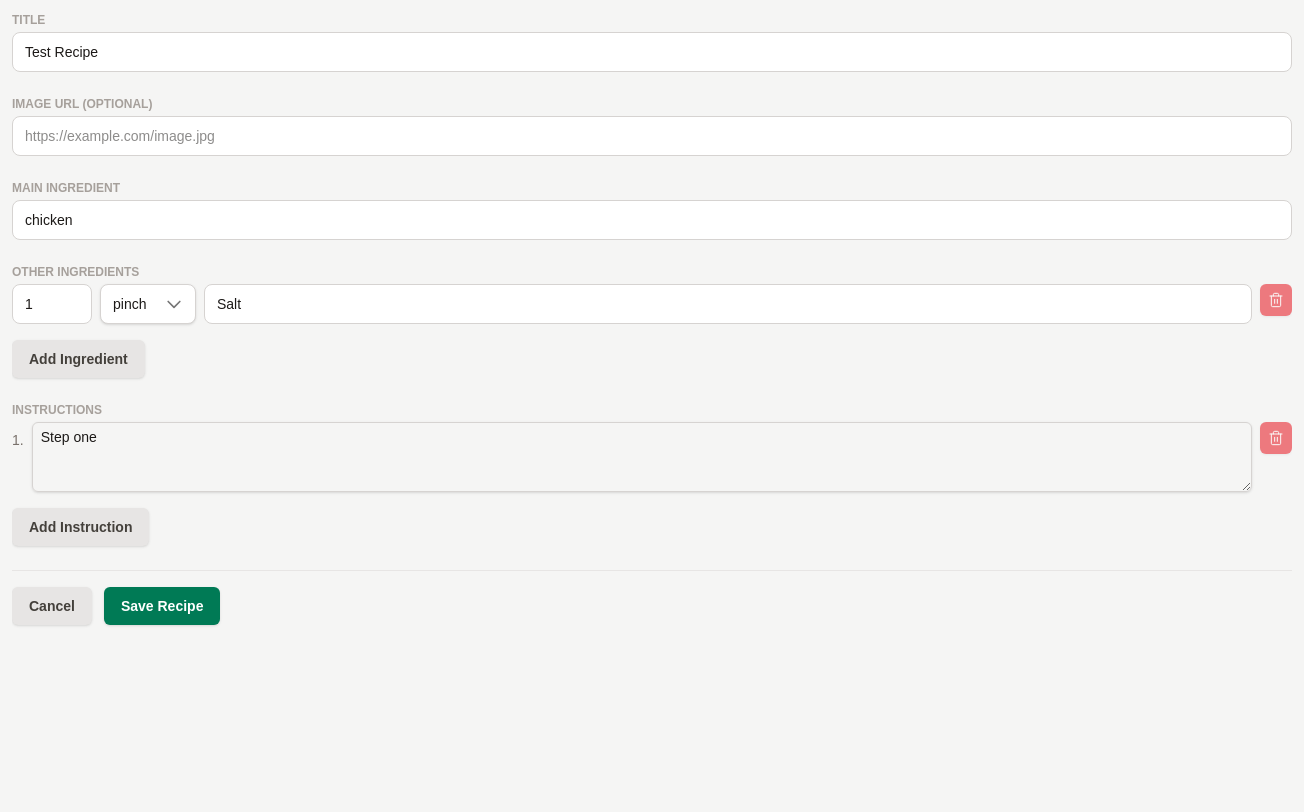
Test: RecipeForm › adds a new instruction step when Add Instruction is clicked
Expected: the number of text boxes with placeholder "Step 1" is 1, [32,422,1252,492]
Step 1. Click the button "Add Instruction" → (81, 527), box [12,508,149,546]
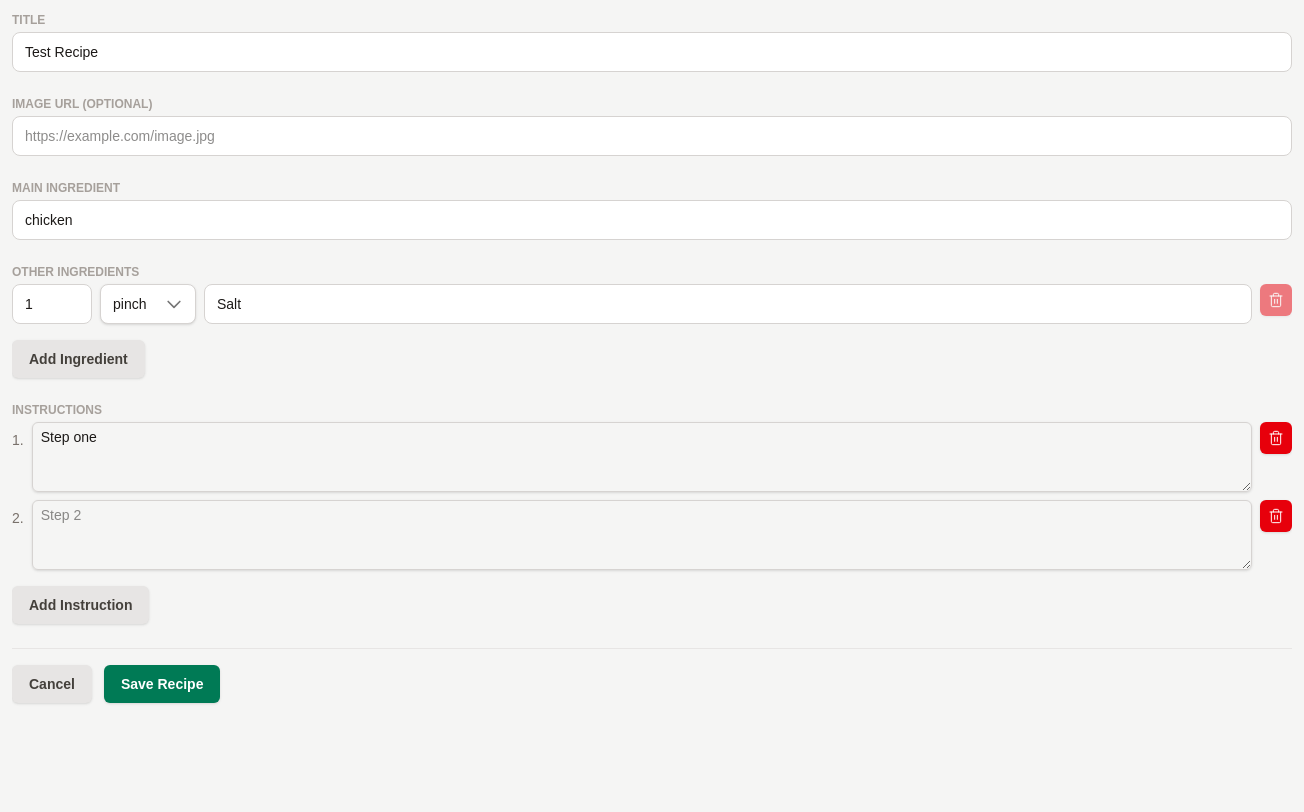
Expected: the number of text boxes with placeholder "Step 1" is 2, [32,422,1252,492]; [32,500,1252,570]
